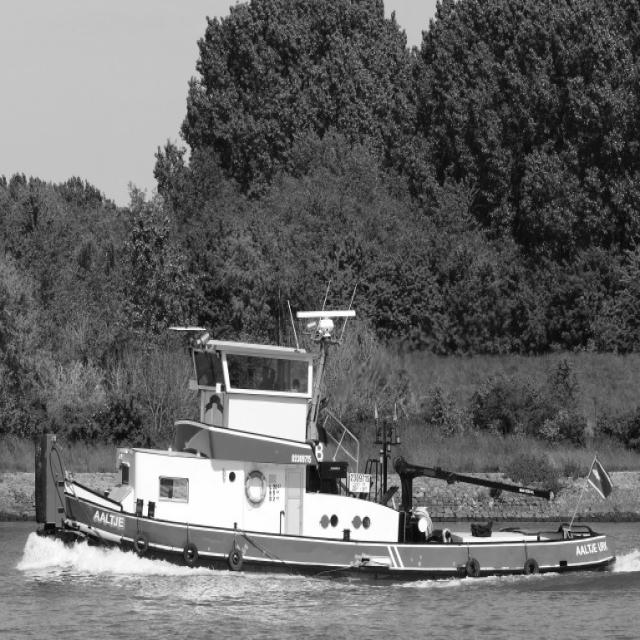tugboat: (28, 281, 624, 596)
